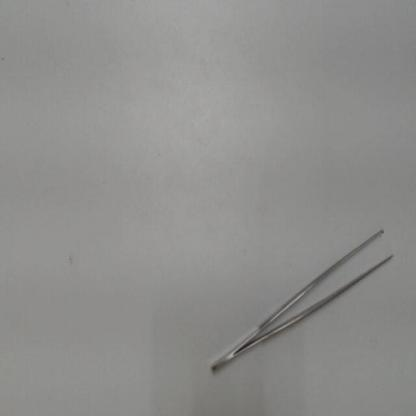Gillies Toothed Dissector: (203, 218, 400, 380)
